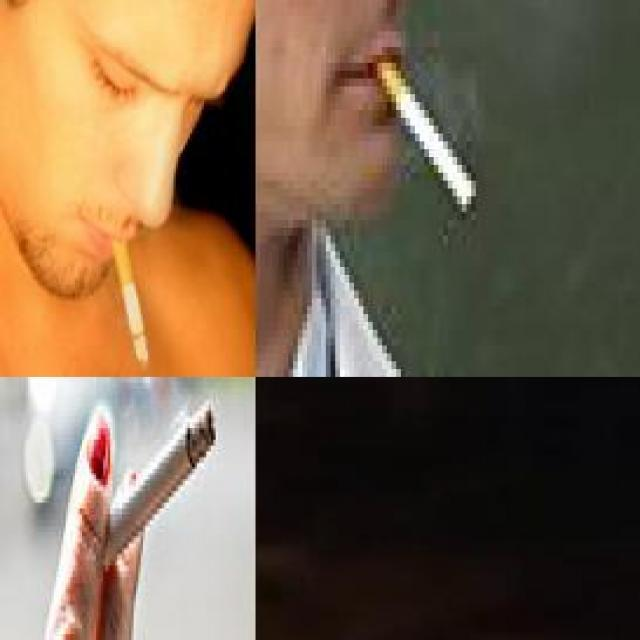cigarette: (80, 394, 218, 586), (371, 45, 478, 216), (109, 228, 151, 372)
